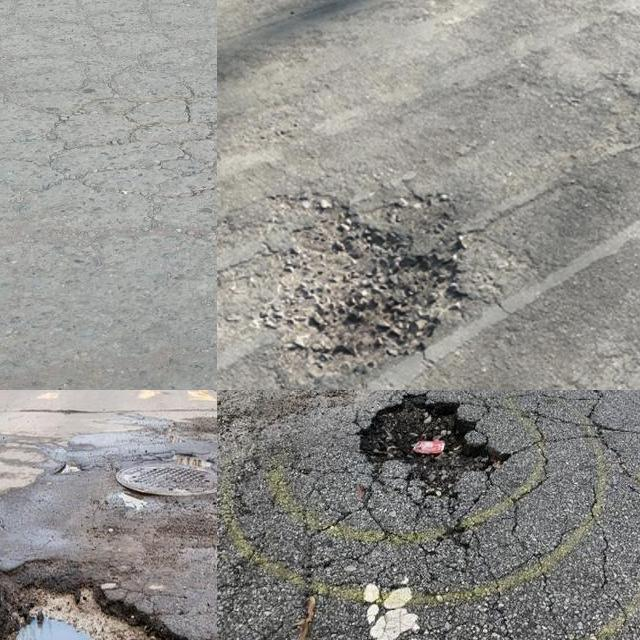Lubang: (247, 200, 471, 352), (361, 393, 505, 502), (0, 574, 179, 640)
Retak Buaya: (0, 70, 217, 250)
